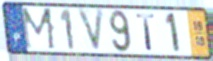1: (164, 12, 182, 55), (59, 8, 76, 52)
9: (107, 9, 132, 54)
M: (20, 7, 58, 52)
T: (135, 13, 157, 52)
V: (75, 7, 107, 55)
